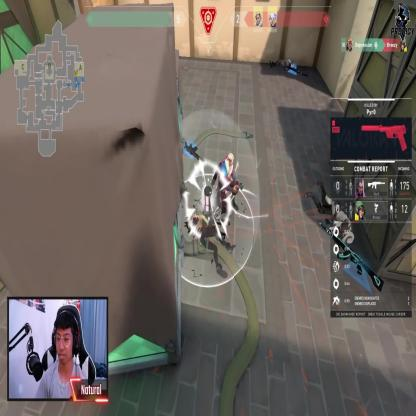enemy: (214, 152, 238, 216)
enemy_head: (227, 153, 234, 166)
